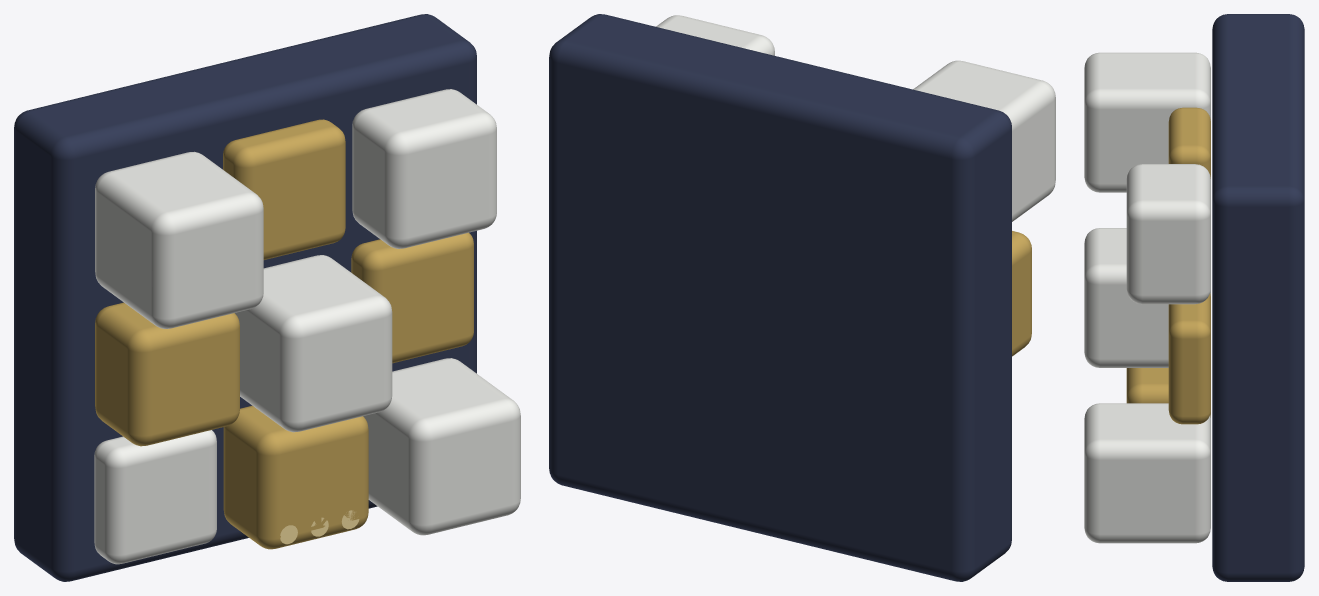
File: data-table.glb
3 renders of one model, left to right at view 1: azimuth 30°, elevation 25°; view 2: azimuth 150°, elevation 25°; view 3: azimuth 270°, elevation 25°, orthographic. The views are drawn at different scales.
Visible parts, largest first — view 1: component (×10); view 2: component (×4); view 3: component (×8).
Boxes of the visible parts, left/top/right/bottom form: component (×10): left=14, top=14, right=520, bottom=581; component (×4): left=549, top=14, right=1055, bottom=581; component (×8): left=1084, top=14, right=1304, bottom=581.
Size of the model in its own units: 0.033 by 0.033 by 0.0167.
